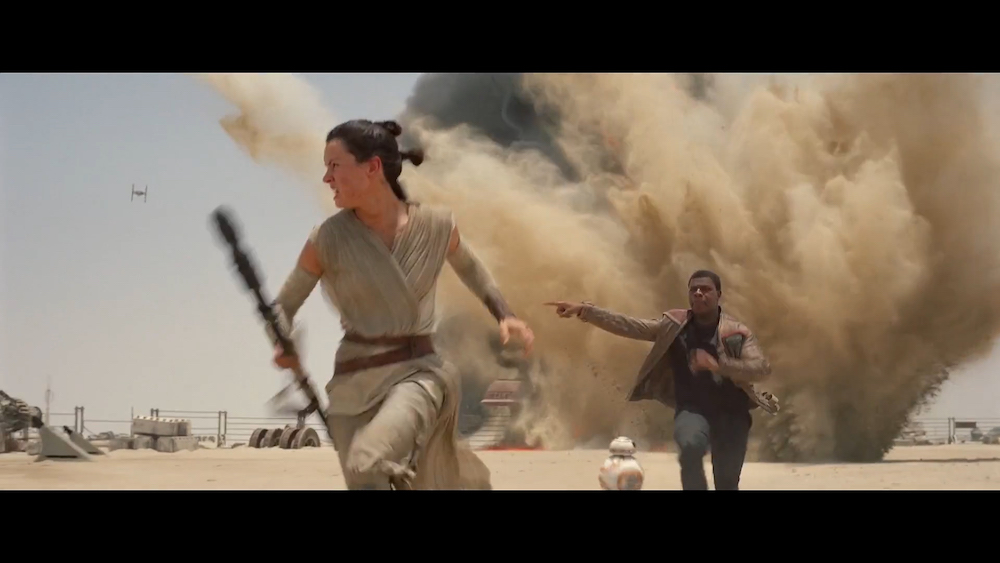Tie Fighter: (132, 184, 149, 204)
